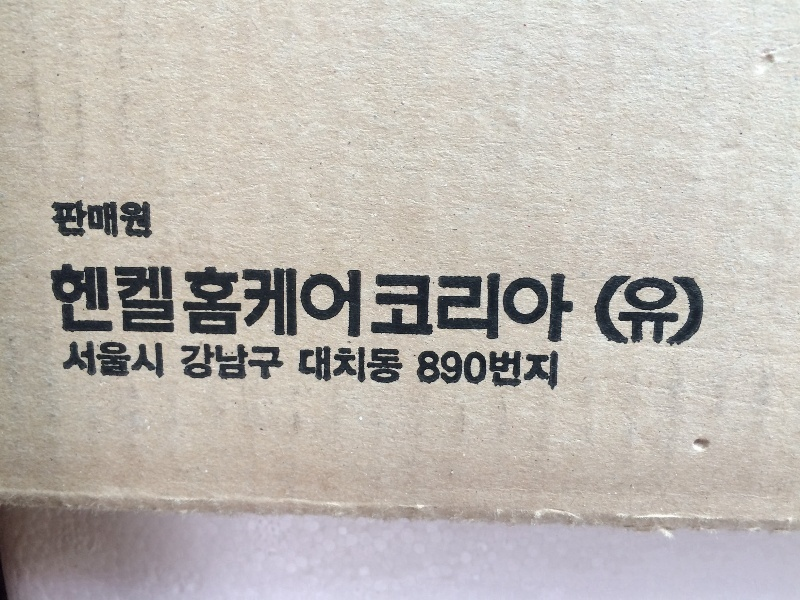text: (49, 263, 64, 346), (65, 263, 80, 346), (81, 263, 96, 346), (97, 263, 112, 346), (113, 263, 128, 346), (129, 263, 144, 346), (145, 263, 160, 346), (161, 263, 176, 346), (177, 263, 192, 346), (193, 263, 208, 346), (209, 263, 224, 346), (225, 263, 240, 346), (241, 263, 256, 346), (257, 263, 272, 346), (273, 263, 288, 346), (289, 263, 304, 346), (305, 263, 320, 346), (321, 263, 336, 346), (337, 263, 352, 346), (353, 263, 368, 346), (369, 263, 384, 346), (385, 263, 400, 346), (401, 263, 416, 346), (417, 263, 432, 346), (433, 263, 448, 346), (449, 263, 464, 346), (465, 263, 480, 346), (481, 263, 496, 346), (497, 263, 512, 346), (513, 263, 528, 346), (529, 263, 544, 346), (545, 263, 560, 346), (561, 263, 576, 346), (609, 273, 624, 349), (625, 273, 640, 349), (641, 273, 656, 349), (657, 273, 672, 349), (673, 273, 688, 349), (689, 273, 704, 349), (598, 273, 608, 349), (417, 350, 432, 392), (433, 350, 448, 392), (449, 350, 464, 392), (465, 350, 480, 392), (481, 350, 496, 392), (497, 350, 512, 392), (513, 350, 528, 392), (529, 350, 544, 392), (81, 341, 96, 383), (97, 341, 112, 383), (113, 341, 128, 383), (129, 341, 144, 383), (145, 341, 160, 383), (305, 346, 320, 386), (321, 346, 336, 386), (337, 346, 352, 386), (353, 346, 368, 386), (369, 346, 384, 386), (385, 346, 400, 386), (545, 350, 559, 392), (193, 342, 208, 381), (209, 342, 224, 381), (225, 342, 240, 381), (241, 342, 256, 381), (257, 342, 272, 381), (49, 201, 64, 239), (65, 201, 80, 239), (81, 201, 96, 239), (97, 201, 112, 239), (113, 201, 128, 239), (129, 201, 144, 239), (180, 342, 192, 381), (273, 342, 285, 381), (69, 341, 80, 383), (145, 201, 153, 239), (161, 341, 165, 383), (300, 346, 304, 386), (401, 346, 404, 386), (46, 201, 48, 239)
